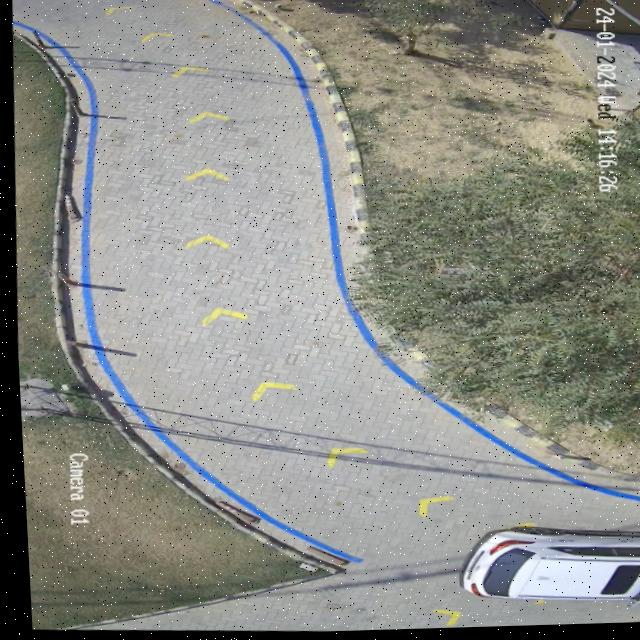car: (449, 530, 640, 603)
